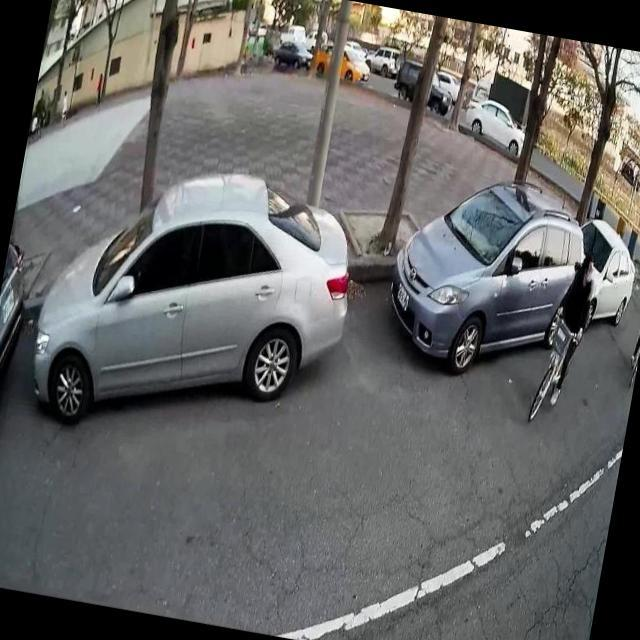person: (534, 247, 604, 412), (55, 86, 71, 128), (90, 68, 106, 109)
